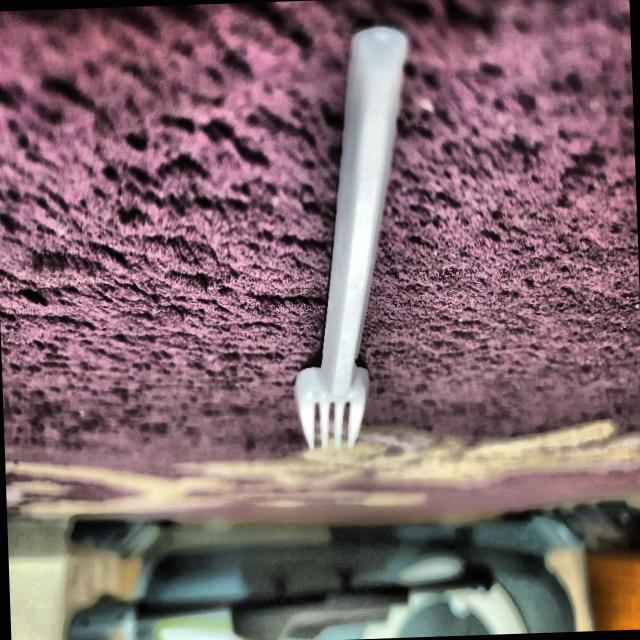plastic utensil: (276, 22, 432, 451)
